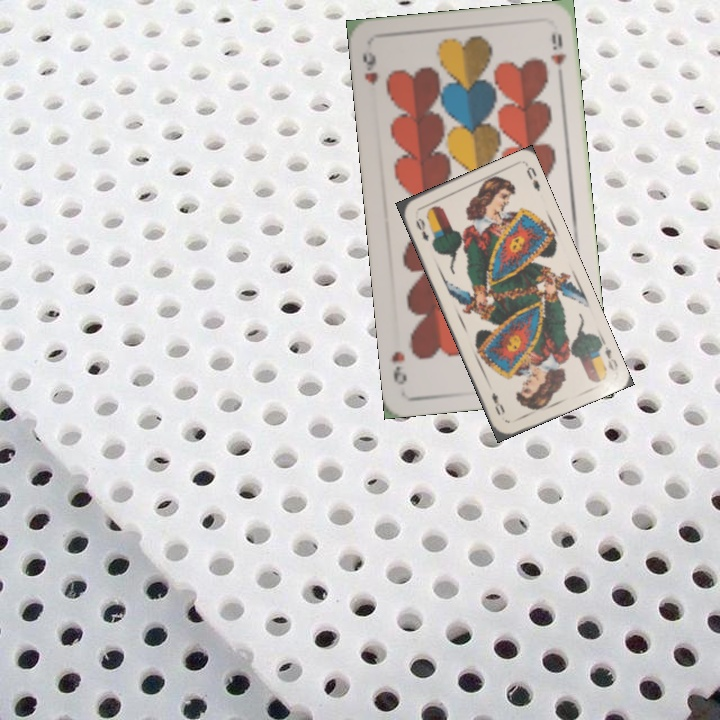EO: (594, 336, 621, 374), (411, 214, 431, 244)
H9: (358, 48, 381, 87)
